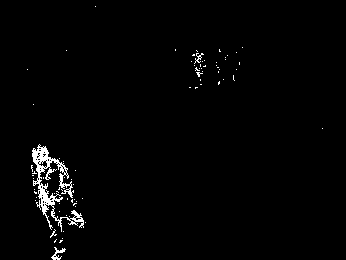person: (28, 145, 84, 260)
